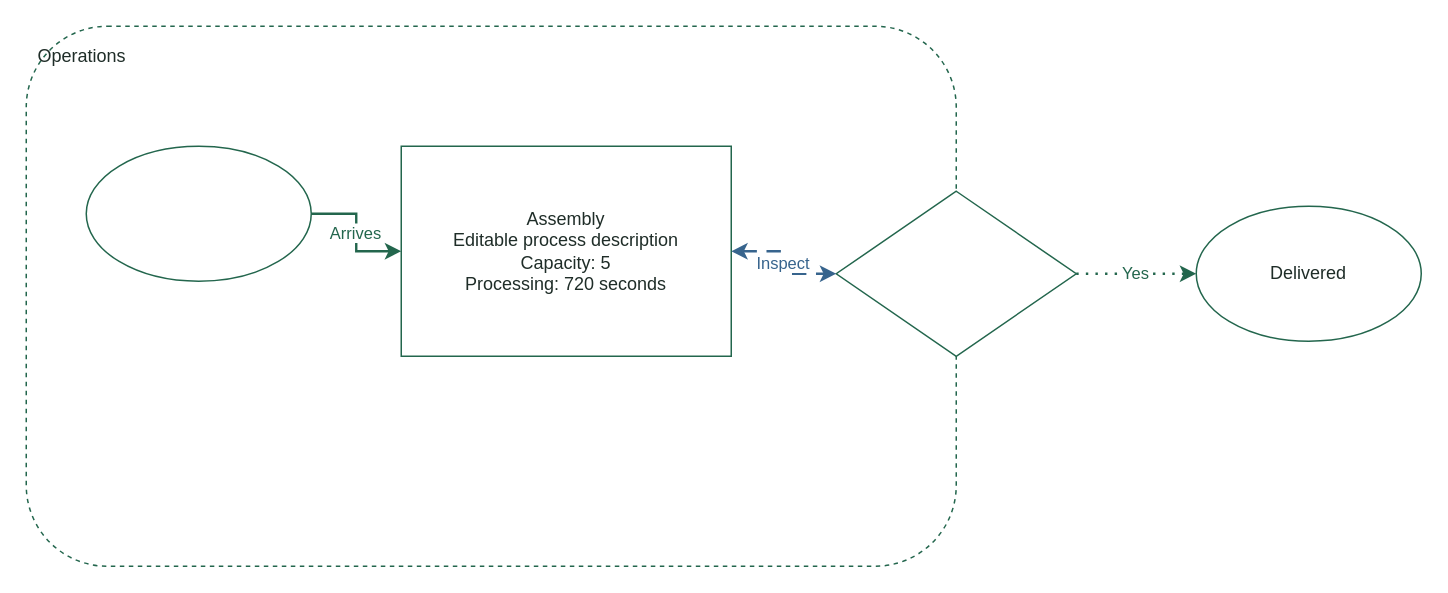
This 1448x593 diagram has some shape labels left out. Here are the shapes that lost their labels. From the top down, the centre of each, then its label:
At point 198,213: "Incoming order".
At point 955,273: "Ready?".
